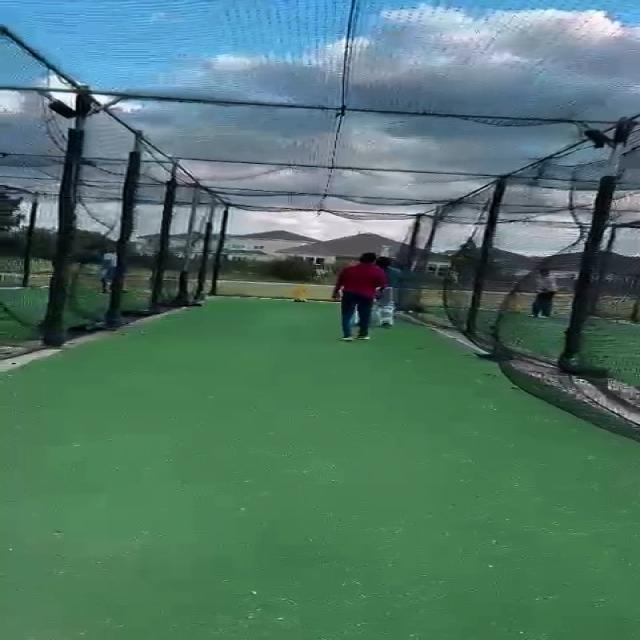batsman: (377, 243, 406, 329)
